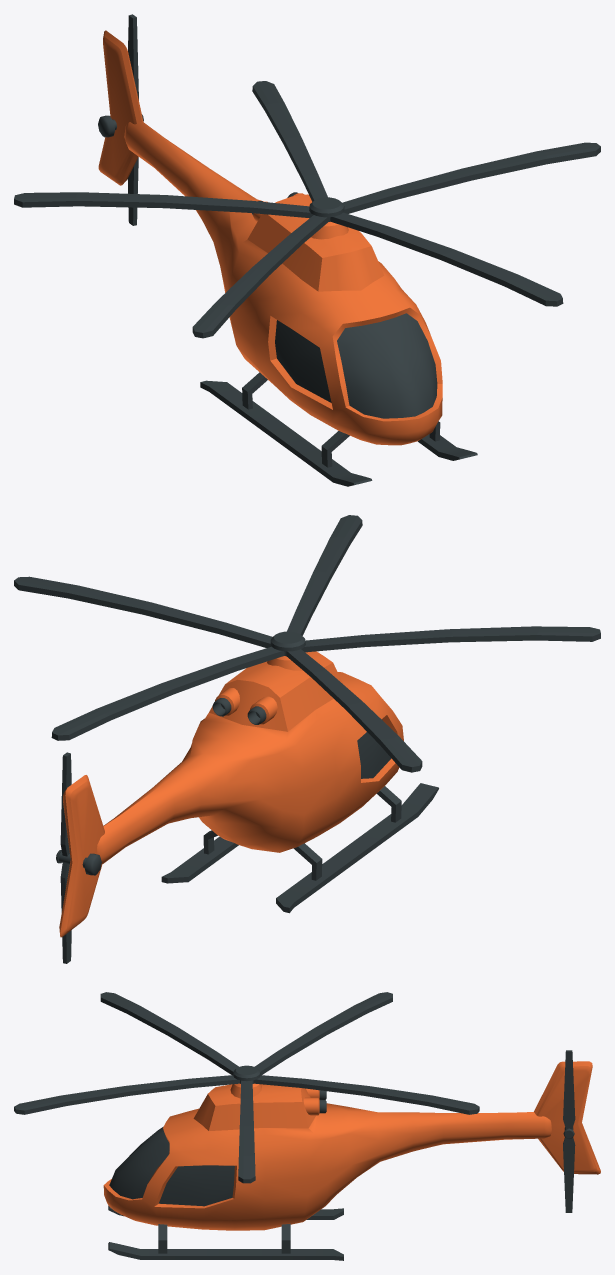
The model's file is Helicopter_01.fbx.
3 views of the same model, one above another, from view 1: azimuth 30°, elevation 25°; view 2: azimuth 150°, elevation 25°; view 3: azimuth 270°, elevation 25° (orthographic). The views are drawn at different scales.
Parts seen in each view (by area): view 1: Helicopter_01; view 2: Helicopter_01; view 3: Helicopter_01.
Part boxes in pixels (left/top/right/bottom): Helicopter_01: left=14, top=14, right=600, bottom=486; Helicopter_01: left=14, top=515, right=600, bottom=963; Helicopter_01: left=14, top=992, right=600, bottom=1260.
Size of the model in its own units: 0.5023 by 0.239 by 0.6656.
